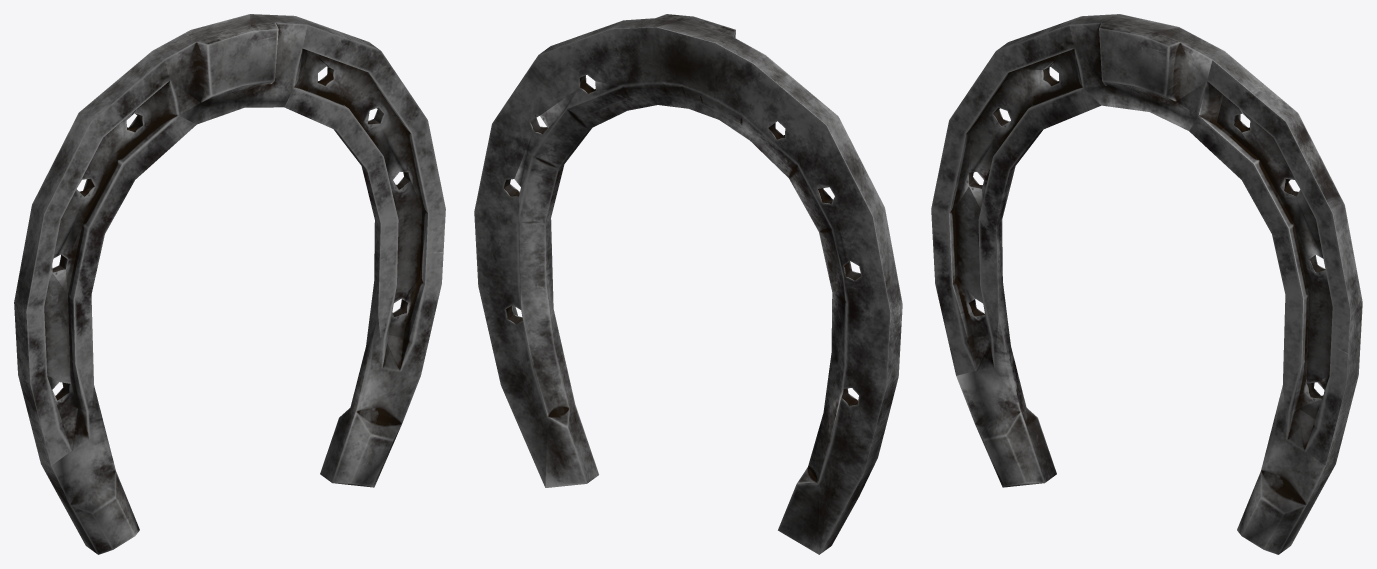
Rendered from ferradura-transformed.glb.
3 views of the same model, side by side, from view 1: azimuth 30°, elevation 25°; view 2: azimuth 150°, elevation 25°; view 3: azimuth 330°, elevation 25° (orthographic).
Visible parts, largest first — view 1: Horse_Shoe_lambert2_0; view 2: Horse_Shoe_lambert2_0; view 3: Horse_Shoe_lambert2_0.
Boxes of the visible parts, left/top/right/bottom form: Horse_Shoe_lambert2_0: left=14, top=14, right=445, bottom=554; Horse_Shoe_lambert2_0: left=474, top=14, right=902, bottom=554; Horse_Shoe_lambert2_0: left=931, top=14, right=1362, bottom=554.
Size of the model in its own units: 49.48 by 55.54 by 4.03.
Materials: 1 (1 with a texture image).
